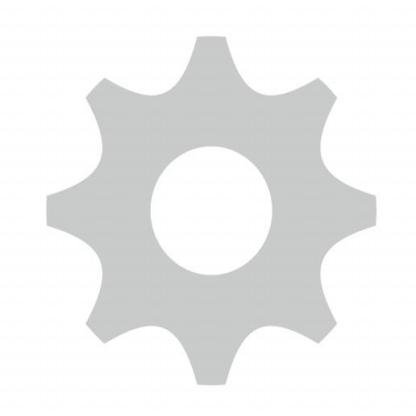FOD: (40, 30, 383, 394)
